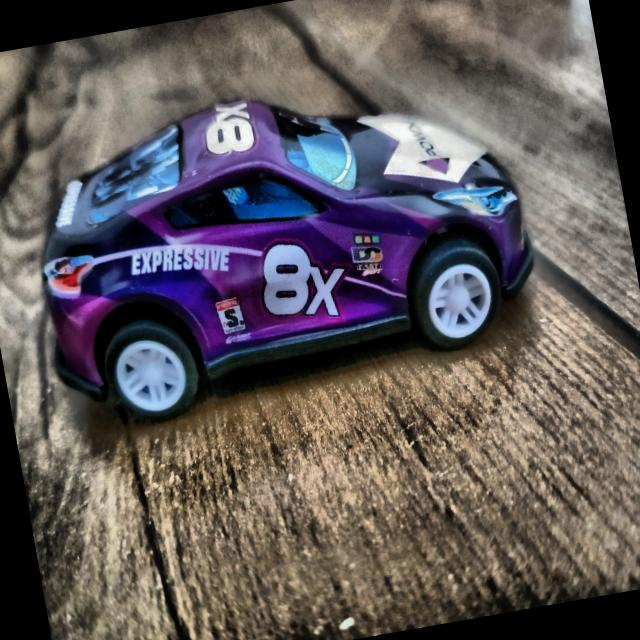Car: (12, 51, 556, 448)
